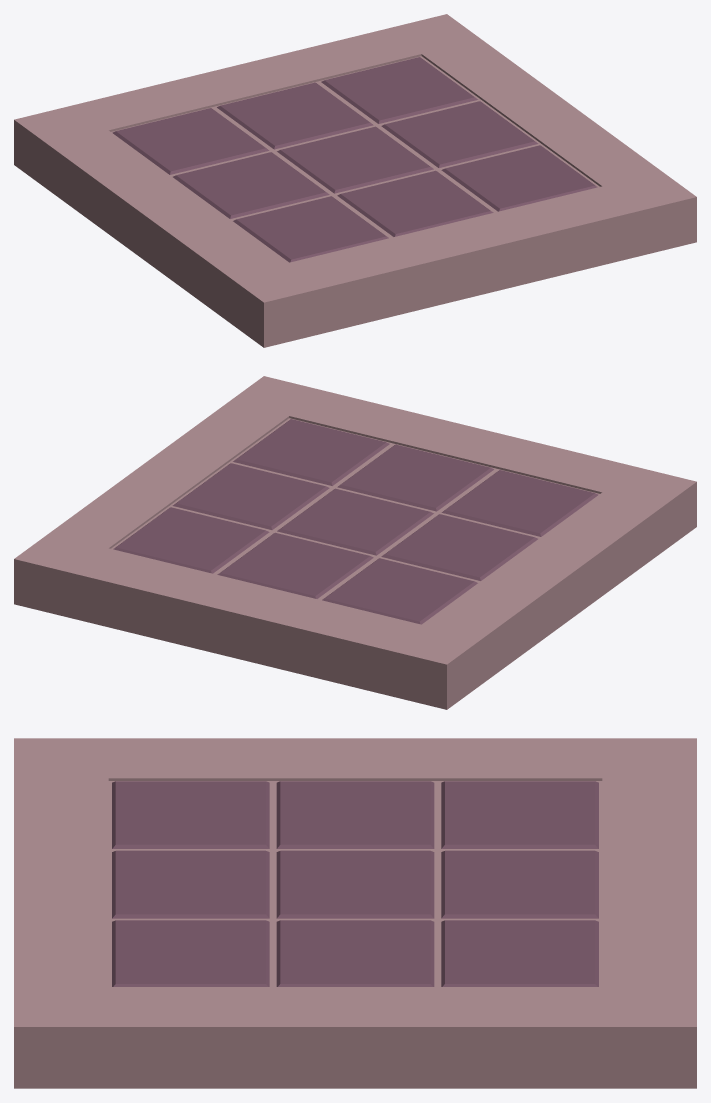
Rendered from floor32.glb.
The picture shows the model from 3 angles, top to bottom: view 1: azimuth 30°, elevation 25°; view 2: azimuth 150°, elevation 25°; view 3: azimuth 270°, elevation 25°; orthographic projection. The views are drawn at different scales.
Parts seen in each view (by area): view 1: Floor1; view 2: Floor1; view 3: Floor1.
Boxes of the visible parts, <box> form: Floor1: <box>14,14,696,347</box>; Floor1: <box>14,376,696,709</box>; Floor1: <box>14,738,696,1088</box>.
Bounding box in the file's own units: 2 × 0.2 × 2.
1 material, 1 textured.
